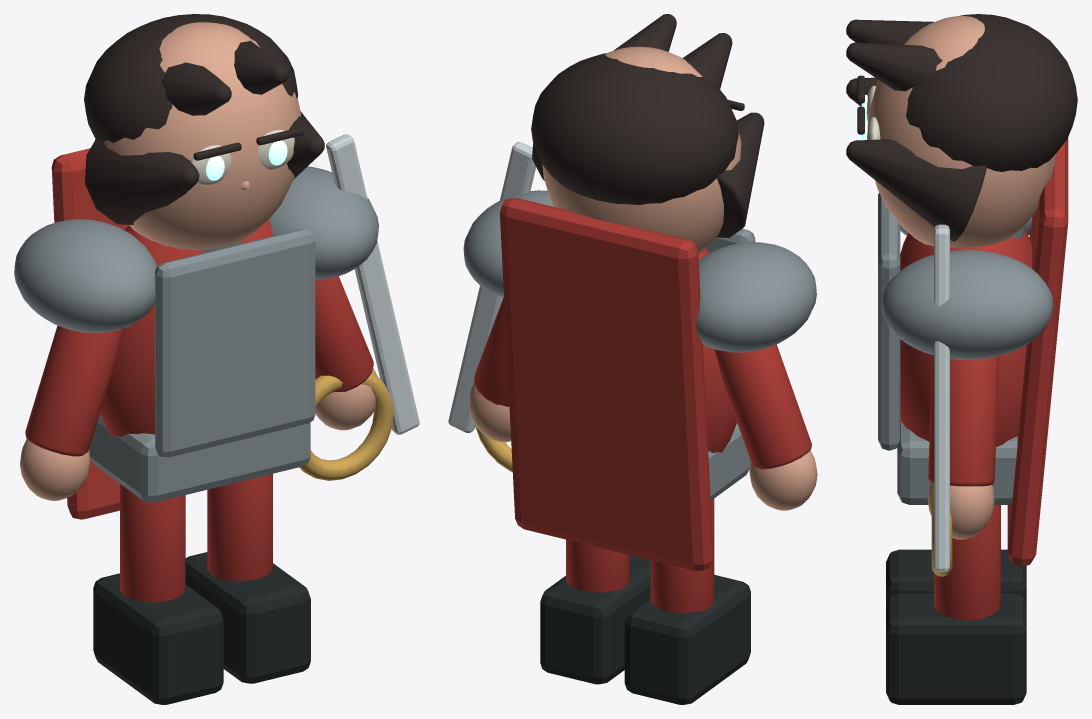
The model's file is hero-fighter.glb.
3 views of the same model, side by side, from view 1: azimuth 30°, elevation 25°; view 2: azimuth 150°, elevation 25°; view 3: azimuth 270°, elevation 25° (orthographic). The views are drawn at different scales.
Visible parts, largest first — view 1: fighter_ChestPlate, fighter_Head, fighter_Pauldron, fighter_Boot, fighter_Boot.001, fighter_Waist, fighter_HairCap, fighter_ArmL, fighter_Pauldron.001, fighter_Leg, fighter_SwordBlade, fighter_Leg.001 (+10 smaller); view 2: fighter_Cape, fighter_HairCap, fighter_Boot, fighter_Pauldron, fighter_Boot.001, fighter_ArmL, fighter_Head, fighter_SwordBlade, fighter_Pauldron.001, fighter_Leg, fighter_HairLock, fighter_Leg.001 (+8 smaller); view 3: fighter_HairCap, fighter_Boot.001, fighter_Pauldron.001, fighter_Head, fighter_Cape, fighter_HairLock.001, fighter_Torso, fighter_ArmR, fighter_Leg.001, fighter_SwordBlade, fighter_ChestPlate, fighter_Waist (+6 smaller).
Boxes of the visible parts, x1=… form: fighter_ChestPlate: x1=155, y1=229, x2=315, y2=457; fighter_Head: x1=95, y1=22, x2=300, y2=250; fighter_Pauldron: x1=14, y1=219, x2=156, y2=333; fighter_Boot: x1=93, y1=573, x2=223, y2=704; fighter_Boot.001: x1=185, y1=552, x2=310, y2=683; fighter_Waist: x1=89, y1=414, x2=310, y2=502; fighter_HairCap: x1=84, y1=14, x2=298, y2=142; fighter_ArmL: x1=25, y1=325, x2=122, y2=456; fighter_Pauldron.001: x1=269, y1=166, x2=378, y2=279; fighter_Leg: x1=120, y1=484, x2=185, y2=602; fighter_SwordBlade: x1=326, y1=134, x2=419, y2=434; fighter_Leg.001: x1=207, y1=474, x2=272, y2=580; fighter_Cape: x1=500, y1=198, x2=713, y2=571; fighter_HairCap: x1=531, y1=53, x2=738, y2=204; fighter_Boot: x1=624, y1=575, x2=750, y2=704; fighter_Pauldron: x1=696, y1=242, x2=816, y2=352; fighter_Boot.001: x1=540, y1=555, x2=650, y2=684; fighter_ArmL: x1=714, y1=344, x2=811, y2=469; fighter_Head: x1=542, y1=46, x2=741, y2=253; fighter_SwordBlade: x1=448, y1=142, x2=535, y2=432; fighter_Pauldron.001: x1=463, y1=190, x2=553, y2=297; fighter_Leg: x1=650, y1=499, x2=714, y2=613; fighter_HairLock: x1=716, y1=112, x2=764, y2=237; fighter_Leg.001: x1=566, y1=539, x2=629, y2=592; fighter_HairCap: x1=906, y1=14, x2=1077, y2=171; fighter_Boot.001: x1=886, y1=593, x2=1026, y2=704; fighter_Pauldron.001: x1=881, y1=250, x2=1053, y2=359; fighter_Head: x1=868, y1=16, x2=1056, y2=247; fighter_Cape: x1=1007, y1=137, x2=1068, y2=566; fighter_HairLock.001: x1=846, y1=139, x2=986, y2=241; fighter_Torso: x1=900, y1=229, x2=1032, y2=446; fighter_ArmR: x1=928, y1=355, x2=999, y2=486; fighter_Leg.001: x1=934, y1=505, x2=1000, y2=620; fighter_SwordBlade: x1=934, y1=224, x2=949, y2=572; fighter_ChestPlate: x1=878, y1=193, x2=900, y2=450; fighter_Waist: x1=897, y1=421, x2=1017, y2=504.
Bounding box in the file's own units: 1.41 × 2.23 × 0.725.
